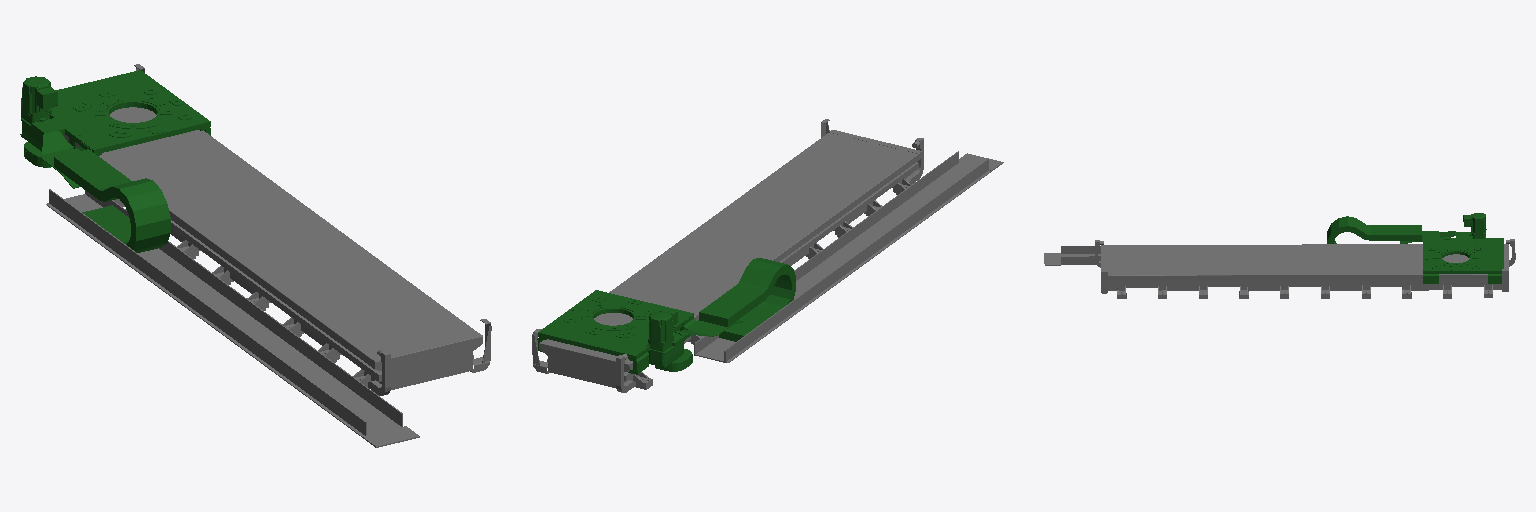
The robot description file, URDF, robot "ECL_robot1_with_track":
<?xml version="1.0" ?>
<!-- =================================================================================== -->
<!-- |    This document was autogenerated by xacro from abb_irb4600_40_255.xacro       | -->
<!-- |    EDITING THIS FILE BY HAND IS NOT RECOMMENDED                                 | -->
<!-- =================================================================================== -->
<robot name="ECL_robot1_with_track" xmlns:xacro="http://wiki.ros.org/xacro">
  <!-- Conversion were obtained from http://www.e-paint.co.uk/Lab_values.asp
       unless otherwise stated. -->
  <!-- link list -->
  <link name="base_link">
    <inertial>
      <origin xyz="0.0 0.0 0.0"/>
      <mass value="120.00000"/>
      <inertia ixx="-4.98000" ixy="0.00000" ixz="2.70000" iyy="-5.95200" iyz="0.00000" izz="0.82800"/>
    </inertial>
    <visual>
      <geometry>
        <mesh filename="package://abb_irb4600_40_255/meshes/visual/base_link.stl"/>
      </geometry>
      <material name="">
        <color rgba="0.7725490 0.7803922 0.7686275 1"/>
      </material>
    </visual>
    <collision>
      <geometry>
        <mesh filename="package://abb_irb4600_40_255/meshes/collision_pybullet/base_link.obj"/>
      </geometry>
    </collision>
  </link>
  <link name="link_1">
    <inertial>
      <origin xyz="0.18000 0.00000 0.50000"/>
      <mass value="120.00000"/>
      <inertia ixx="-4.98000" ixy="0.00000" ixz="2.70000" iyy="-5.95200" iyz="0.00000" izz="0.82800"/>
    </inertial>
    <visual>
      <geometry>
        <mesh filename="package://abb_irb4600_40_255/meshes/visual/link_1.stl"/>
      </geometry>
      <material name="">
        <color rgba="0.7725490 0.7803922 0.7686275 1"/>
      </material>
    </visual>
    <collision>
      <geometry>
        <mesh filename="package://abb_irb4600_40_255/meshes/collision_pybullet/link_1.obj"/>
      </geometry>
    </collision>
  </link>
  <link name="link_2">
    <inertial>
      <origin xyz="0.94000 0.08000 -0.34000"/>
      <mass value="120.00000"/>
      <inertia ixx="-2.96000" ixy="2.25600" ixz="-9.58800" iyy="-18.72601" iyz="-0.81600" izz="-14.95000"/>
    </inertial>
    <visual>
      <geometry>
        <mesh filename="package://abb_irb4600_40_255/meshes/visual/link_2.stl"/>
      </geometry>
      <material name="">
        <color rgba="0.7725490 0.7803922 0.7686275 1"/>
      </material>
    </visual>
    <collision>
      <geometry>
        <mesh filename="package://abb_irb4600_40_255/meshes/collision_pybullet/link_2.obj"/>
      </geometry>
    </collision>
  </link>
  <link name="link_3">
    <inertial>
      <origin xyz="0.07000 -0.26600 0.08800"/>
      <mass value="120.00000"/>
      <inertia ixx="1.34500" ixy="0.55860" ixz="0.18480" iyy="4.65068" iyz="-0.70224" izz="2.76032"/>
    </inertial>
    <visual>
      <geometry>
        <mesh filename="package://abb_irb4600_40_255/meshes/visual/link_3.stl"/>
      </geometry>
      <material name="">
        <color rgba="0.7725490 0.7803922 0.7686275 1"/>
      </material>
    </visual>
    <collision>
      <geometry>
        <mesh filename="package://abb_irb4600_40_255/meshes/collision_pybullet/link_3.obj"/>
      </geometry>
    </collision>
  </link>
  <link name="link_4">
    <inertial>
      <origin xyz="0.00000 0.00000 1.00000"/>
      <mass value="40.00000"/>
      <inertia ixx="-8.00000" ixy="0.00000" ixz="0.00000" iyy="-8.00000" iyz="0.00000" izz="0.48200"/>
    </inertial>
    <visual>
      <geometry>
        <mesh filename="package://abb_irb4600_40_255/meshes/visual/link_4.stl"/>
      </geometry>
      <material name="">
        <color rgba="0.7725490 0.7803922 0.7686275 1"/>
      </material>
    </visual>
    <collision>
      <geometry>
        <mesh filename="package://abb_irb4600_40_255/meshes/collision_pybullet/link_4.obj"/>
      </geometry>
    </collision>
  </link>
  <link name="link_5">
    <inertial>
      <origin xyz="0.14000 0.00000 0.00000"/>
      <mass value="10.00000"/>
      <inertia ixx="0.04000" ixy="0.00000" ixz="0.00000" iyy="-0.00900" iyz="0.00000" izz="-0.00400"/>
    </inertial>
    <visual>
      <geometry>
        <mesh filename="package://abb_irb4600_40_255/meshes/visual/link_5.stl"/>
      </geometry>
      <material name="">
        <color rgba="0.7725490 0.7803922 0.7686275 1"/>
      </material>
    </visual>
    <collision>
      <geometry>
        <mesh filename="package://abb_irb4600_40_255/meshes/collision_pybullet/link_5.obj"/>
      </geometry>
    </collision>
  </link>
  <link name="link_6">
    <inertial>
      <origin xyz="0.08100 -0.09100 0.33200"/>
      <mass value="5.00000"/>
      <inertia ixx="-0.29652" ixy="-0.03686" ixz="0.09396" iyy="-0.28792" iyz="-0.10556" izz="-0.04621"/>
    </inertial>
    <visual>
      <geometry>
        <mesh filename="package://abb_irb4600_40_255/meshes/visual/link_6.stl"/>
      </geometry>
      <material name="">
        <color rgba="0.1882353 0.1960784 0.2039216 1"/>
      </material>
    </visual>
    <collision>
      <geometry>
        <mesh filename="package://abb_irb4600_40_255/meshes/collision_pybullet/link_6.obj"/>
      </geometry>
    </collision>
  </link>
  <link name="tool0"/>
  <!-- end of link list -->
  <!-- joint list -->
  <joint name="joint_1" type="revolute">
    <parent link="base_link"/>
    <child link="link_1"/>
    <origin rpy="0 0 0 " xyz="0 0 0"/>
    <axis xyz="0 0 1"/>
    <limit effort="100000" lower="-3.14159" upper="3.14159" velocity="2.618"/>
    <dynamics damping="0.2" friction="0"/>
  </joint>
  <joint name="joint_2" type="revolute">
    <parent link="link_1"/>
    <child link="link_2"/>
    <origin rpy="0 -0 0 " xyz="0.175 0 0.495"/>
    <axis xyz="0 1 0"/>
    <limit effort="100000" lower="-1.5708" upper="2.61799" velocity="2.618"/>
    <dynamics damping="0.2" friction="0"/>
  </joint>
  <joint name="joint_3" type="revolute">
    <parent link="link_2"/>
    <child link="link_3"/>
    <origin rpy="0 -0 0 " xyz="0 0 1.095"/>
    <axis xyz="0 1 0"/>
    <limit effort="100000" lower="-3.14159" upper="1.309" velocity="2.618"/>
    <dynamics damping="0.2" friction="0"/>
  </joint>
  <joint name="joint_4" type="revolute">
    <parent link="link_3"/>
    <child link="link_4"/>
    <origin rpy="0 -0 0 " xyz="0.332 0 0.175"/>
    <axis xyz="1 0 0"/>
    <limit effort="10000" lower="-6.98132" upper="6.98132" velocity="6.2832"/>
    <dynamics damping="0.2" friction="0"/>
  </joint>
  <joint name="joint_5" type="revolute">
    <parent link="link_4"/>
    <child link="link_5"/>
    <origin rpy="0 -0 0 " xyz="0.939 0 0"/>
    <axis xyz="0 1 0"/>
    <limit effort="100000" lower="-2.18166" upper="2.0944" velocity="6.2832"/>
    <dynamics damping="0.2" friction="0"/>
  </joint>
  <joint name="joint_6" type="revolute">
    <parent link="link_5"/>
    <child link="link_6"/>
    <origin rpy="0 1.57076 0 " xyz="0.135 0 0"/>
    <axis xyz="0 0 1"/>
    <limit effort="100000" lower="-6.98132" upper="6.98132" velocity="7.854"/>
    <dynamics damping="0.2" friction="0"/>
  </joint>
  <joint name="joint_6-tool0" type="fixed">
    <parent link="link_6"/>
    <child link="tool0"/>
    <origin rpy="0 0 0" xyz="0 0 0"/>
  </joint>
  <!-- end of joint list -->
  <!-- ROS base_link to ABB World Coordinates transform -->
  <link name="base"/>
  <joint name="base_link-base" type="fixed">
    <origin rpy="0 0 0" xyz="0 0 0"/>
    <parent link="base_link"/>
    <child link="base"/>
  </joint>

  <!-- ! linear axis-->
  <link name="linear_axis_base_link">
    <visual>
      <geometry>
        <mesh filename="package://abb_irb4600_40_255/meshes/visual/ecl_track_rail_1_visual_m.stl"/>
      </geometry>
      <material name="">
        <color rgba="0.5 0.5 0.5 1.0"/>
      </material>
    </visual>
    <collision>
      <geometry>
        <mesh filename="package://abb_irb4600_40_255/meshes/collision/ecl_track_rail_1_collision_m.stl"/>
      </geometry>
      <material name="">
        <color rgba="0.5 0.5 0.5 1.0"/>
      </material>
    </collision>
  </link>
  <link name="linear_axis_zero"/>
  <link name="linear_axis_carriage">
    <visual>
      <geometry>
        <mesh filename="package://abb_irb4600_40_255/meshes/visual/ecl_track_carriage_1_visual_m.stl"/>
      </geometry>
      <material name="">
        <color rgba="0.15 0.415 0.165 1.0"/>
      </material>
    </visual>
    <collision>
      <geometry>
        <mesh filename="package://abb_irb4600_40_255/meshes/collision/ecl_track_carriage_1_collision_m.stl"/>
      </geometry>
      <material name="">
        <color rgba="0.15 0.415 0.165 1.0"/>
      </material>
    </collision>
  </link>
  <link name="linear_axis_robot_mount"/>

  <!-- Joint list -->
  <joint name="linear_axis_joint_1" type="fixed">
    <parent link="linear_axis_base_link"/>
    <child link="linear_axis_zero"/>
    <origin rpy="0 0 0" xyz="0 0 0"/>
  </joint>
  <joint name="linear_axis_actuation_joint" type="prismatic">
    <parent link="linear_axis_zero"/>
    <child link="linear_axis_carriage"/>
    <origin rpy="0 0 0" xyz="0 0 0"/>
    <axis xyz="0 -1 0"/>
    <!-- ! linear track range here -->
    <limit effort="1" lower="0" upper="3.6" velocity="1"/>
  </joint>
  <joint name="linear_axis_joint_3" type="fixed">
    <parent link="linear_axis_carriage"/>
    <child link="linear_axis_robot_mount"/>
    <origin rpy="0 0 0" xyz="0 0 0"/>
  </joint>
  <!-- End of joint list -->

  <!--base_link-->
  <!--Link list-->
  <link name="world_link"/>

  <!-- <joint name="platform_to_world_link" type="fixed">
    <origin rpy="0 0 0" xyz="0 0 0"/>
    <parent link="world_link"/>
    <child link="platform"/>
  </joint> -->

  <!--bind the rail to word_frame, can be disabled if using modile platform-->
  <joint name="linear_axis_to_world_link" type="fixed">
    <!-- pi/2 = 1.57079632679 -->
    <origin rpy="0 0 0" xyz="0 0 0"/>
    <parent link="world_link"/>
    <!--<child link="robot_base_link"/>-->
    <child link="linear_axis_base_link"/>
  </joint>

  <!-- -1.57079632679 -->
  <joint name="robot_to_linear_axis" type="fixed">
    <origin rpy="0 0 0" xyz="0 0 0"/>
    <parent link="linear_axis_robot_mount"/>
    <child link="base_link"/>
  </joint>

</robot>

--- What the picture shows (computed from the rendered views, not written in the file) ---
3 views of the same robot in one strip: view 1: azimuth 30°, elevation 25°; view 2: azimuth 150°, elevation 25°; view 3: azimuth 270°, elevation 25° (orthographic).
Model ECL_robot1_with_track with 14 links and 13 joints (6 revolute, 1 prismatic, 6 fixed), rooted at world_link, posed every joint at zero.
Links seen in each view (by area): view 1: linear_axis_base_link, linear_axis_carriage; view 2: linear_axis_base_link, linear_axis_carriage; view 3: linear_axis_base_link, linear_axis_carriage.
Boxes of the visible links, box(x1,y1,x2,y2) form: linear_axis_base_link: box(21, 64, 491, 447); linear_axis_carriage: box(20, 70, 210, 252); linear_axis_base_link: box(532, 119, 1003, 392); linear_axis_carriage: box(537, 258, 795, 374); linear_axis_base_link: box(1044, 239, 1515, 298); linear_axis_carriage: box(1327, 213, 1503, 283).
Bounding box of the posed robot: 1.35 × 5.78 × 0.661 m (x, y, z).
Meshes: 9 distinct files referenced, 2 mesh visuals loaded (2 binary STL); not drawn: 7 (reference not matched to a file when rendering).